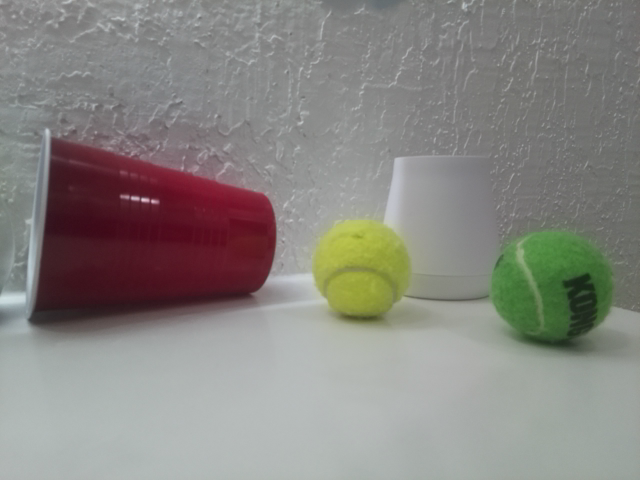green-ball: (488, 228, 614, 348)
yellow-ball: (310, 215, 413, 319)
